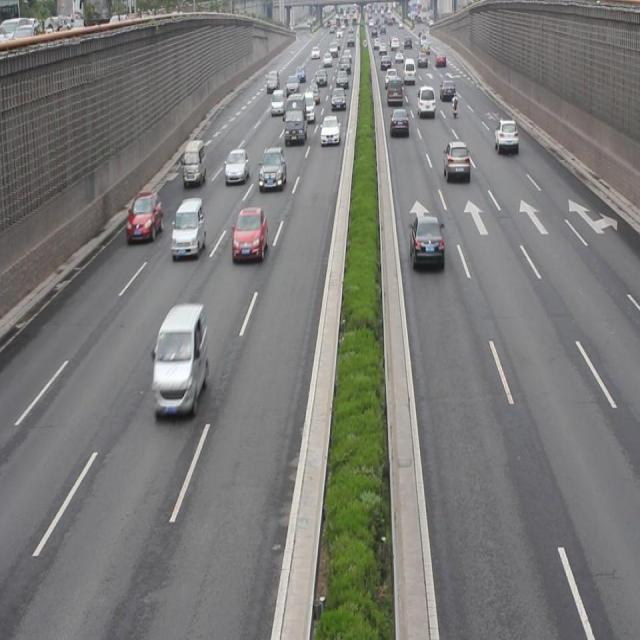car: (233, 206, 268, 262), (408, 213, 443, 268), (126, 190, 163, 242), (258, 144, 286, 190), (443, 139, 469, 185), (224, 147, 249, 185), (493, 118, 518, 153), (319, 114, 340, 146), (388, 106, 408, 138)
truck: (152, 302, 208, 415), (170, 196, 205, 258), (181, 139, 206, 185), (284, 92, 306, 144)
